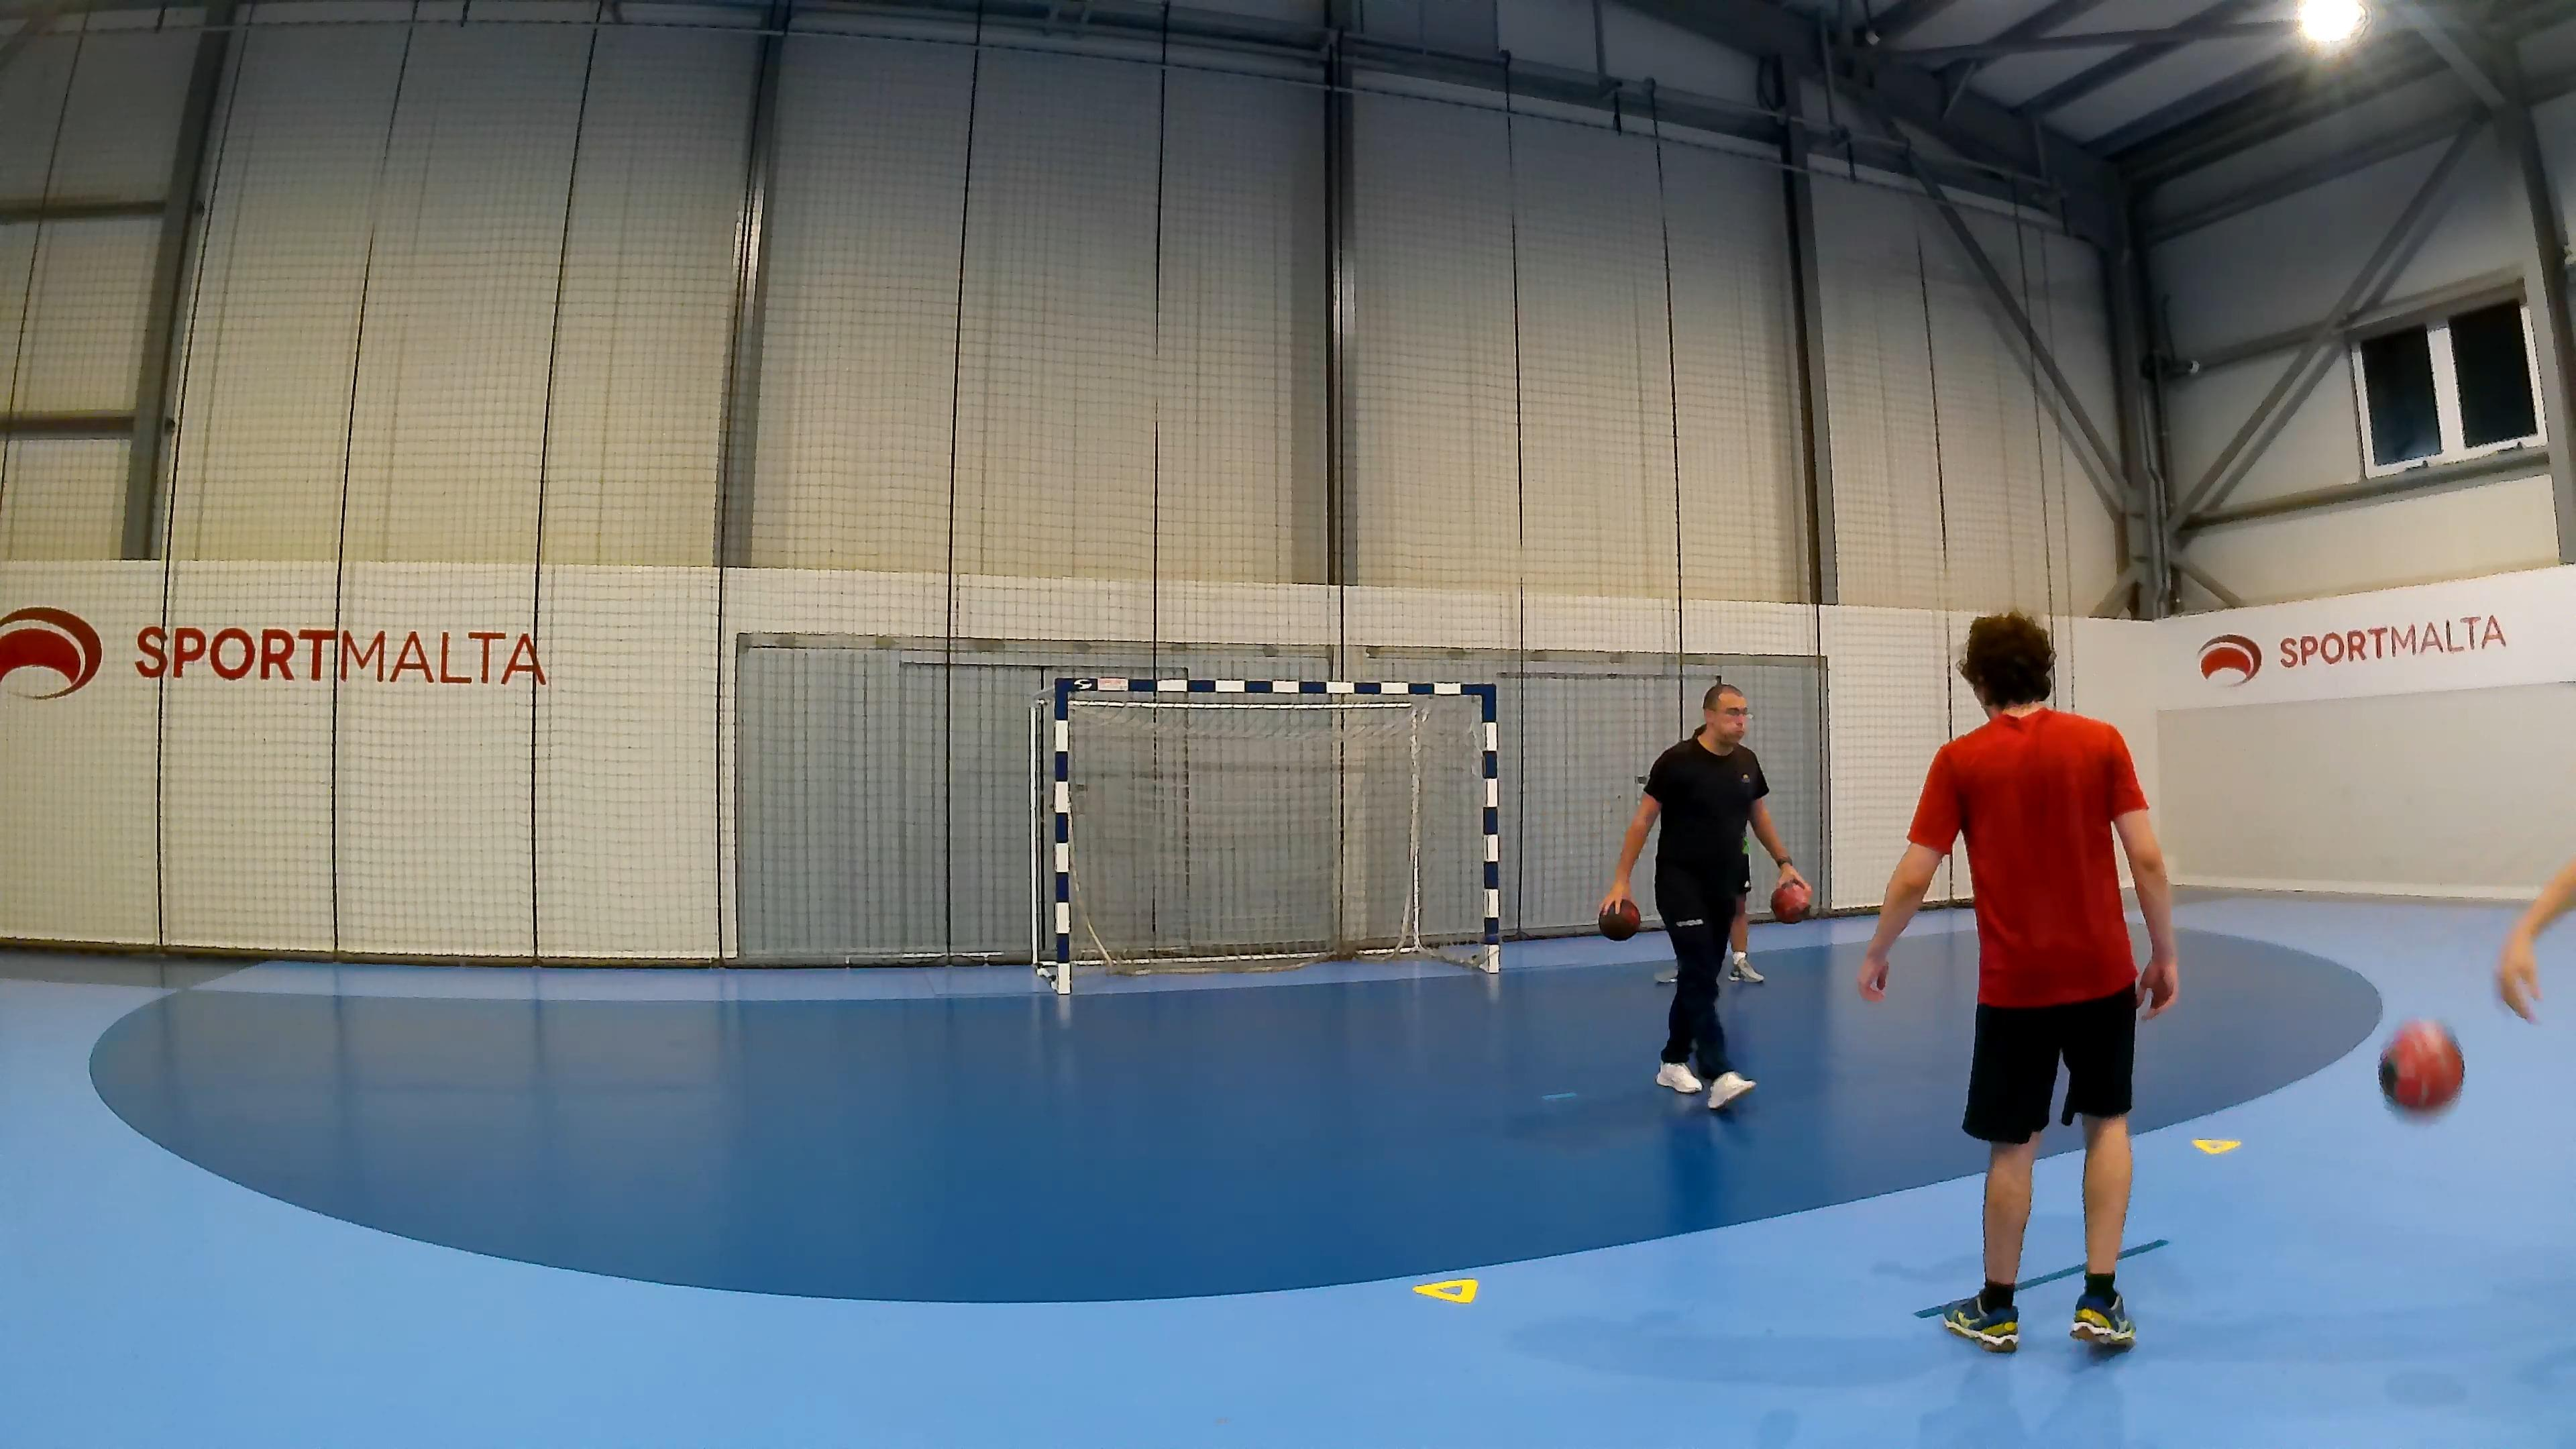handball: (2376, 1017, 2465, 1111), (1598, 897, 1640, 941), (1769, 878, 1810, 922)
